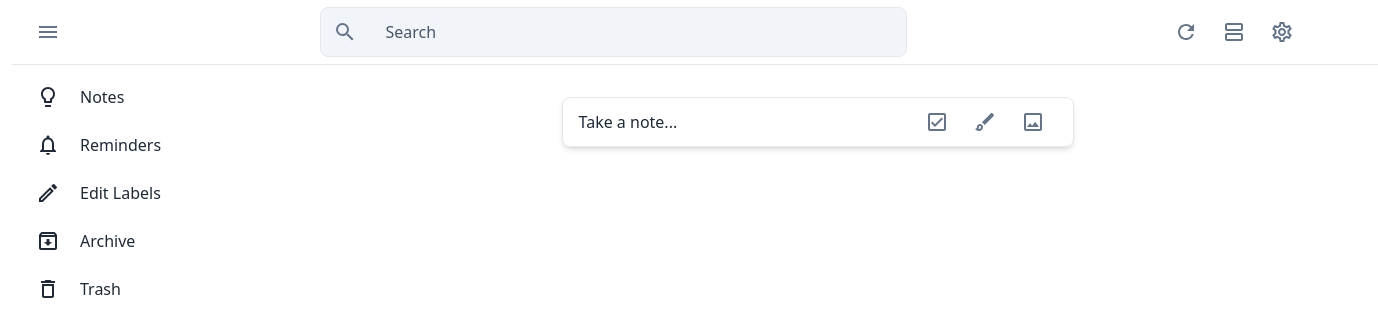
it: note adding › user successfully adds a note
This screenshot has width=1378, height=315.
Click the text "Take a note..." at (628, 122), box [578,111,677,133]
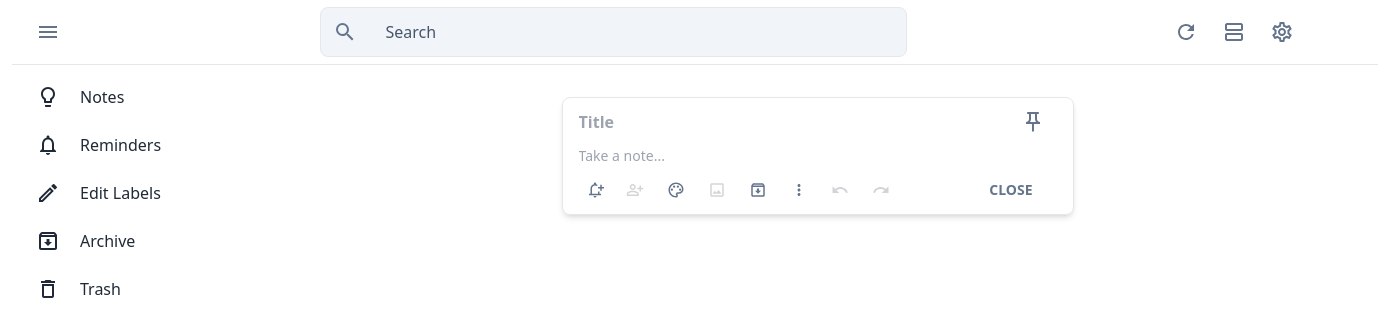
Type "This is a test note" into the text box with placeholder "Take a note..." at (818, 156), box [578,146,1056,166]
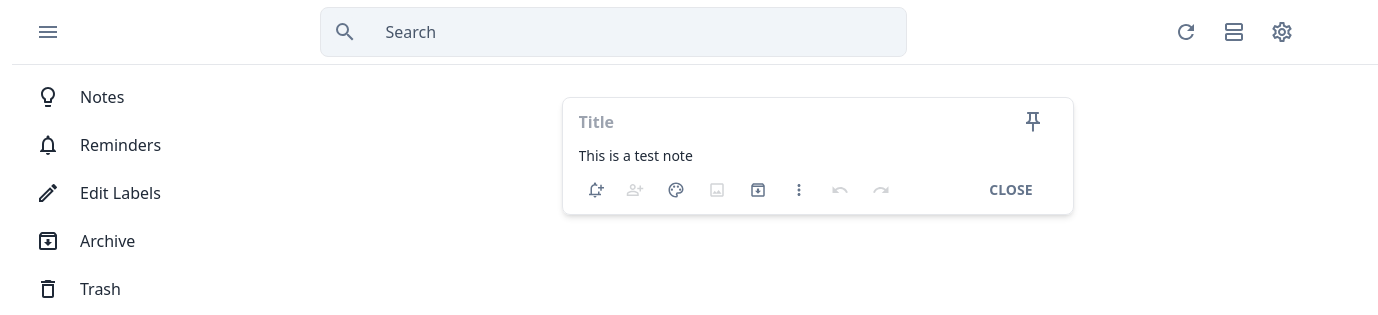
Click the button "Close" at (1011, 190), box [965,174,1057,206]
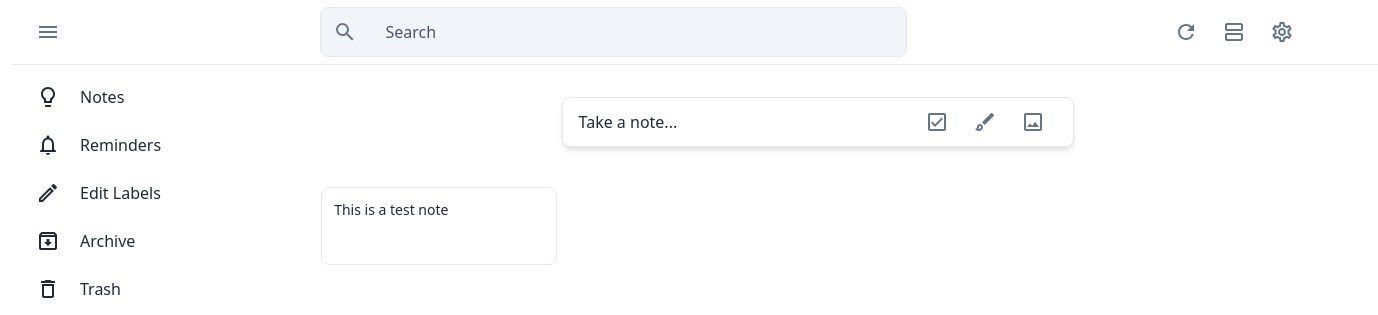
Expected: the text "This is a test note" is shown, [334,200,448,219]
